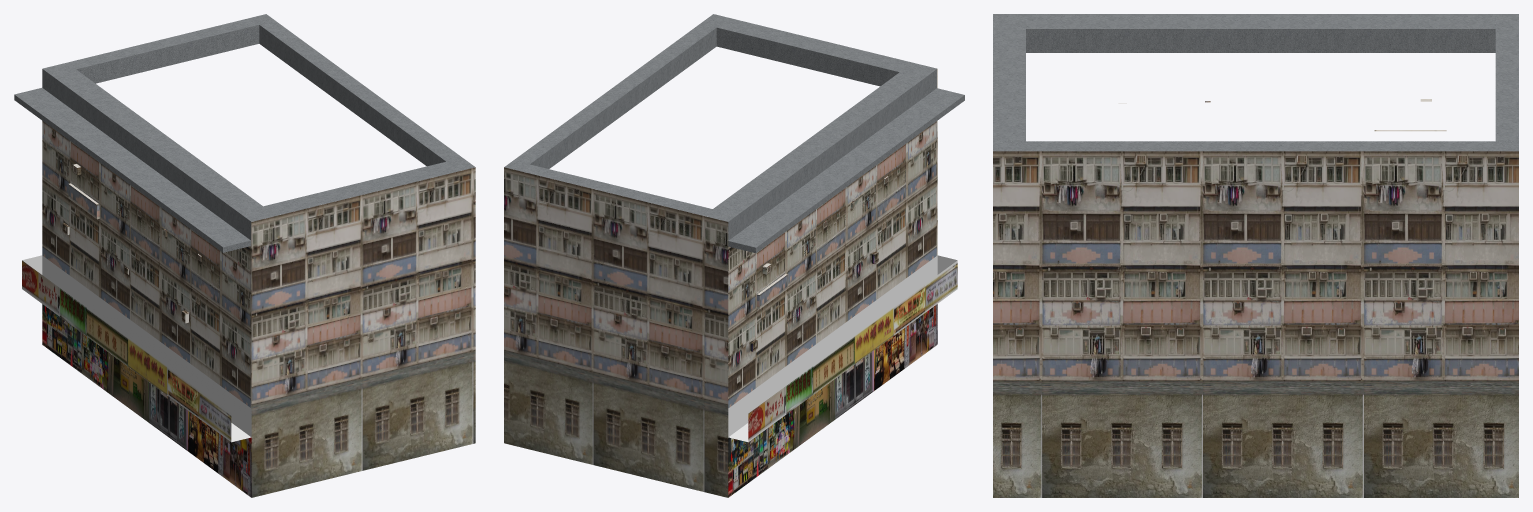
The model's file is block-hk-4.glb.
The picture shows the model from 3 angles, left to right: view 1: azimuth 30°, elevation 25°; view 2: azimuth 150°, elevation 25°; view 3: azimuth 270°, elevation 25°; orthographic projection. The views are drawn at different scales.
Parts seen in each view (by area): view 1: Material2 (×4), Material3 (×2); view 2: Material2 (×4), Material3 (×2); view 3: Material2 (×2).
Boxes of the visible parts, x1=… form: Material2 (×4): x1=14, y1=14, x2=475, y2=497; Material3 (×2): x1=22, y1=255, x2=251, y2=442; Material2 (×4): x1=504, y1=14, x2=964, y2=497; Material3 (×2): x1=728, y1=255, x2=957, y2=441; Material2 (×2): x1=993, y1=14, x2=1518, y2=497.
Bounding box in the file's own units: 41.02 × 42.92 × 59.02.
Materials: 6 (5 with a texture image).
